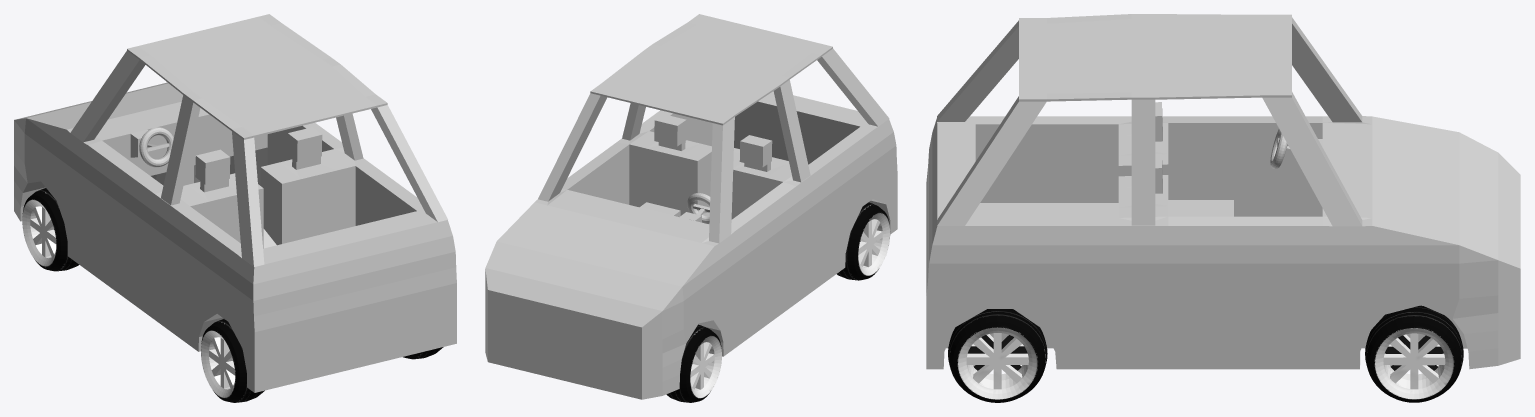
Rendered from carmodel.fbx.
3 renders of one model, left to right at view 1: azimuth 30°, elevation 25°; view 2: azimuth 150°, elevation 25°; view 3: azimuth 270°, elevation 25°, orthographic. The views are drawn at different scales.
Visible parts, largest first — view 1: Cube.002, Torus.000, Torus.001; view 2: Cube.002, Torus.000, Torus.001; view 3: Cube.002, Torus.003, Torus.002.
Boxes of the visible parts, x1,y1,x2,y2 form: Cube.002: (14, 14, 456, 392); Torus.000: (201, 319, 264, 402); Torus.001: (22, 188, 78, 271); Cube.002: (485, 14, 897, 399); Torus.000: (837, 202, 890, 280); Torus.001: (666, 324, 721, 402); Cube.002: (926, 14, 1520, 369); Torus.003: (1365, 305, 1463, 402); Torus.002: (948, 309, 1047, 402).
Size of the model in its own units: 445 by 503 by 923.
Materials: 4 (4 with a texture image).
